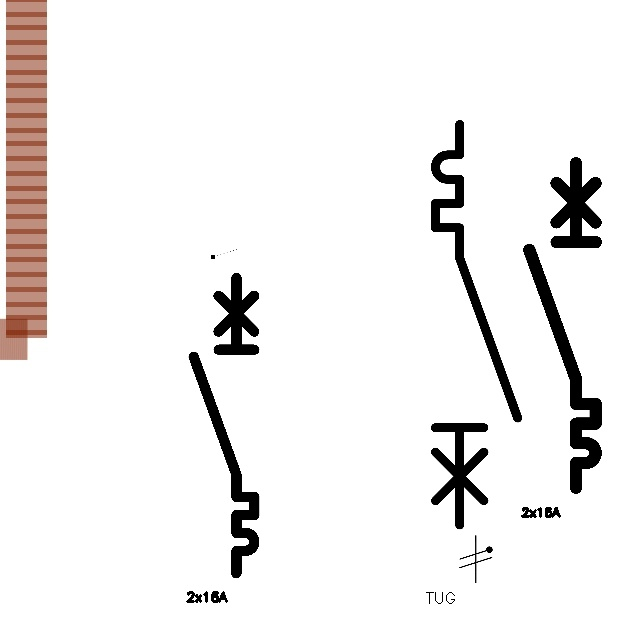interruptor_termomagnetico: (425, 114, 528, 535), (521, 155, 604, 496), (186, 270, 262, 581)
